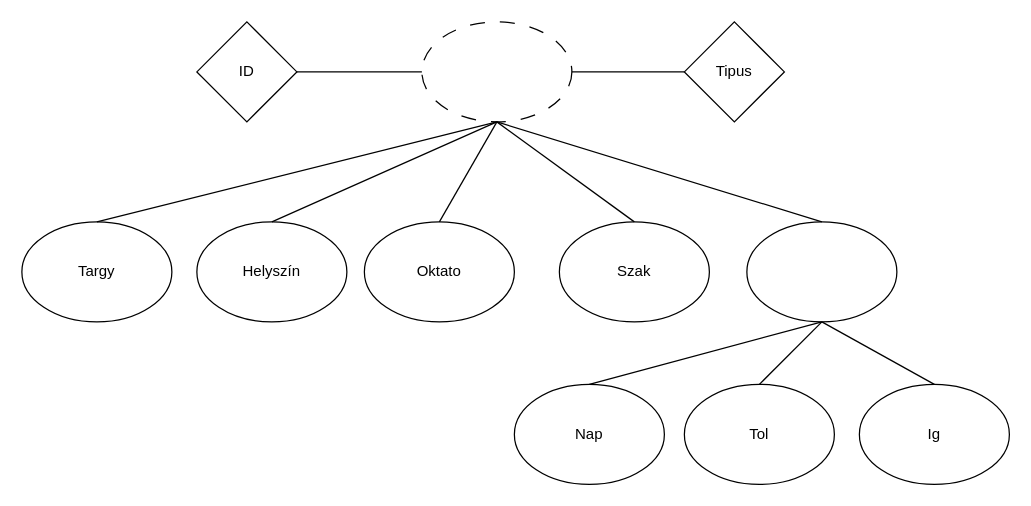
The diagram is 1031 pixels wide and 506 high, and some of its shapes have lost their labels. Each missing label, with the centre of its shape:
"Idopont" belongs at point 821,271.
"Ora" belongs at point 496,71.
